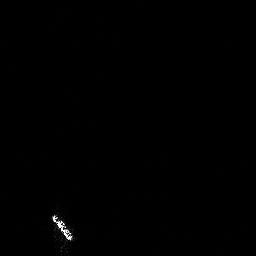ship: (49, 211, 77, 245)
